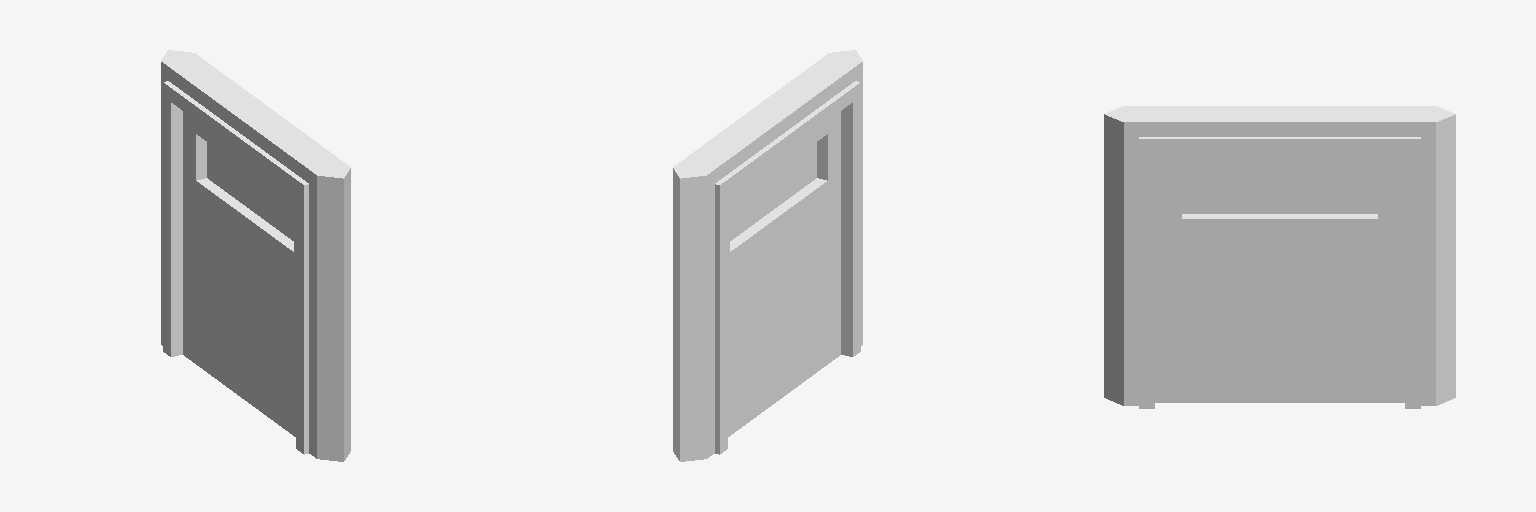
Rendered from hangarDoor.obj.
3 views of the same model, side by side, from view 1: azimuth 30°, elevation 25°; view 2: azimuth 150°, elevation 25°; view 3: azimuth 270°, elevation 25° (orthographic).
Bounding box in the file's own units: 0.165 × 1 × 1.12.